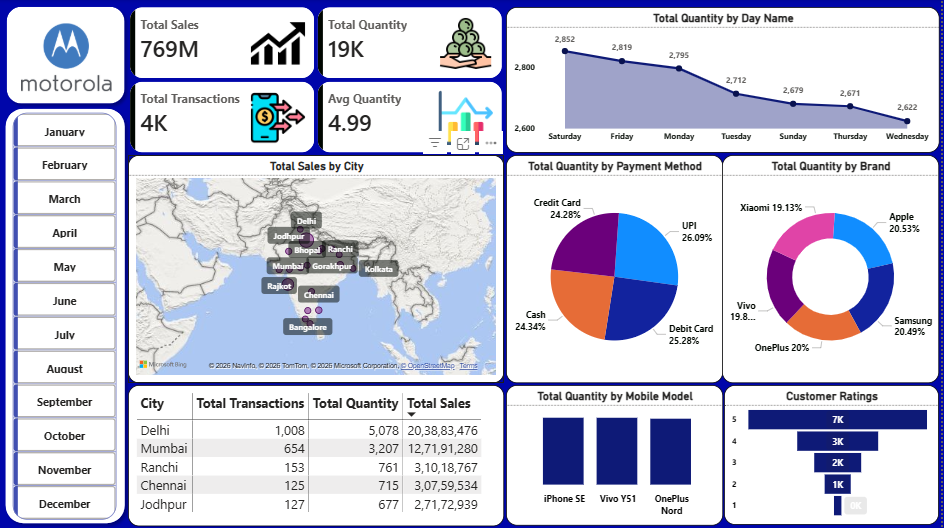

The dashboard page shown, as its layout file describes it:
{"tool":"powerbi","page":{"name":"Dashboard","canvas":[1280,720],"ordinal":0},"visuals":[{"type":"shape","box":[2,2,178.1,149.5],"z":0},{"type":"image","box":[30.2,26.9,122.6,104.1],"z":1000},{"type":"shape","box":[0,139.4,179.7,581.2],"z":2000},{"type":"advancedSlicerVisual","fields":{"Values":["Sales_Data.Date.Variation.Date Hierarchy.Month"]},"box":[13.4,150,151.2,567.8],"z":3000},{"type":"cardVisual","fields":{"Data":["Sales_Data.Total Sales","Sales_Data.Total_Quantity","Sales_Data.Total Transactions","Sales_Data.Avg Quantity"]},"box":[162.4,1.4,536.8,223],"z":4000},{"type":"map","fields":{"Category":["Sales_Data.City"],"Size":["Sales_Data.Total Sales"]},"box":[175,212,511,310],"z":5000},{"type":"lineChart","title":"Total Quantity by Day Name","fields":{"Category":["Sales_Data.Day Name"],"Y":["Sales_Data.Total_Quantity"]},"box":[688.2,11,589.1,198.2],"z":6000},{"type":"pieChart","title":"Total Quantity by Payment Method","fields":{"Category":["Sales_Data.Payment Method"],"Y":["Sales_Data.Total_Quantity"]},"box":[688.2,212,294.5,309.7],"z":7000},{"type":"donutChart","title":"Total Quantity by Brand","fields":{"Y":["Sales_Data.Total_Quantity"],"Category":["Sales_Data.Brand"]},"box":[982.7,212,294.5,309.7],"z":8000},{"type":"tableEx","fields":{"Values":["Sales_Data.City","Sales_Data.Total Transactions","Sales_Data.Total Quantity","Sales_Data.Total Sales"]},"box":[174.8,524,510.6,192],"z":8001},{"type":"clusteredColumnChart","fields":{"Category":["Sales_Data.Mobile Model"],"Y":["Sales_Data.Total Quantity"]},"box":[688.2,524.4,294.5,191.3],"z":8002},{"type":"funnel","title":"Customer Ratings","fields":{"Category":["Sales_Data.Customer Ratings"],"Y":["Sum(Sales_Data.Customer Ratings)"]},"box":[985.5,524,291.8,189.9],"z":8003}]}

Visuals, with their boxes in screenshot pixels (x1, y1, x2, y2), scaled from the page's 1280x720 canvas onto the 944x528 screenshot:
shape: region(1, 1, 133, 111)
image: region(22, 20, 113, 96)
shape: region(0, 102, 133, 527)
advancedSlicerVisual - Sales_Data.Date.Variation.Date Hierarchy.Month: region(10, 110, 121, 526)
cardVisual - Sales_Data.Total Sales x Sales_Data.Total_Quantity: region(120, 1, 516, 165)
map - Sales_Data.City x Sales_Data.Total Sales: region(129, 155, 506, 383)
"Total Quantity by Day Name" lineChart: region(508, 8, 942, 153)
"Total Quantity by Payment Method" pieChart: region(508, 155, 725, 383)
"Total Quantity by Brand" donutChart: region(725, 155, 942, 383)
tableEx - Sales_Data.City x Sales_Data.Total Transactions: region(129, 384, 505, 525)
clusteredColumnChart - Sales_Data.Mobile Model x Sales_Data.Total Quantity: region(508, 385, 725, 525)
"Customer Ratings" funnel: region(727, 384, 942, 524)
